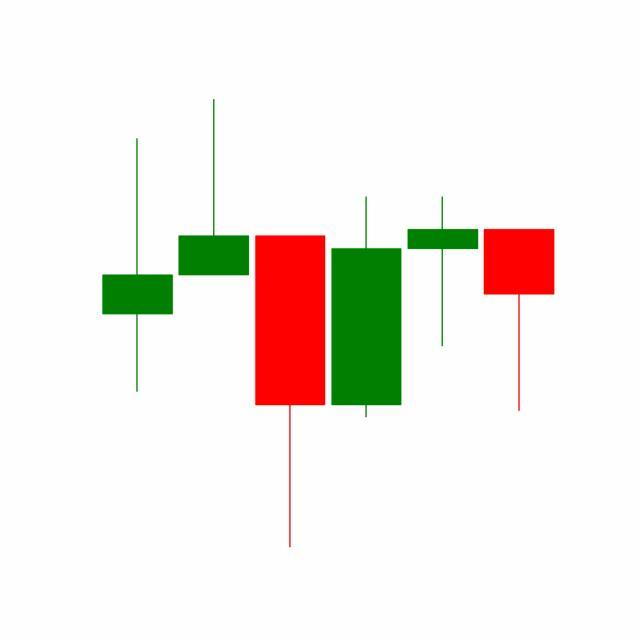Spinning Top: (404, 196, 482, 349)
